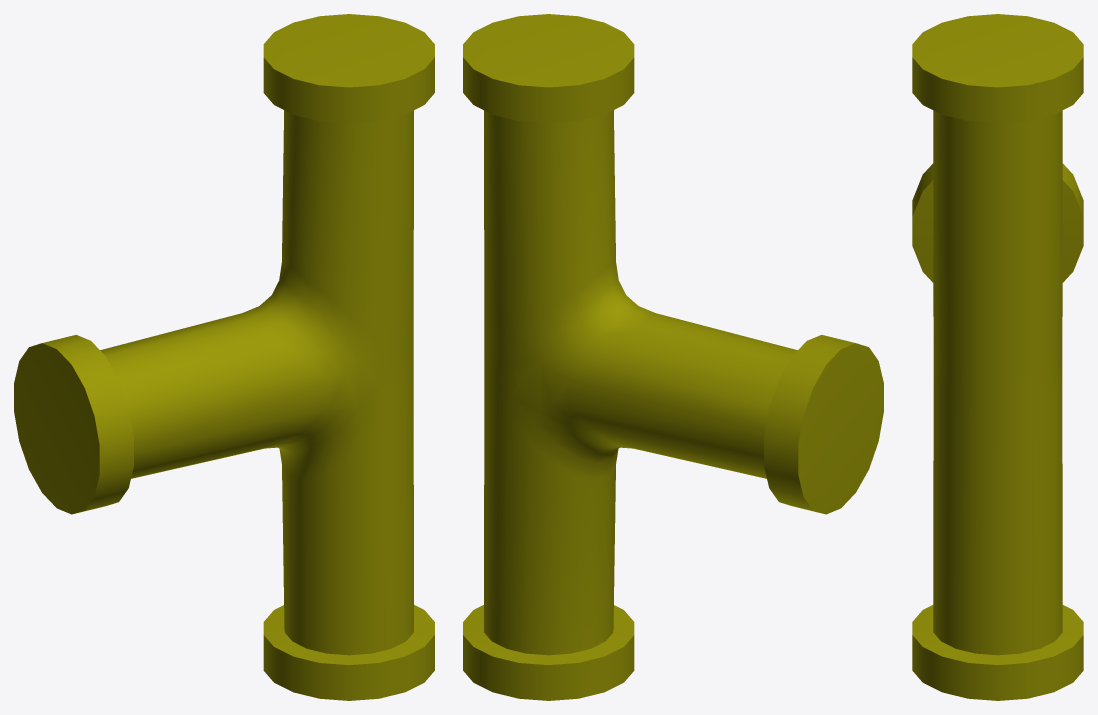
The model's file is Pipe Puzzle_P2 Pipe Modular_03.FBX.
3 views of the same model, side by side, from view 1: azimuth 30°, elevation 25°; view 2: azimuth 150°, elevation 25°; view 3: azimuth 270°, elevation 25° (orthographic).
Visible parts, largest first — view 1: pipe modular 03; view 2: pipe modular 03; view 3: pipe modular 03.
Boxes of the visible parts, bbox=[...] form: pipe modular 03: bbox=[14, 14, 434, 700]; pipe modular 03: bbox=[463, 14, 883, 700]; pipe modular 03: bbox=[912, 14, 1083, 700].
Size of the model in its own units: 14.92 by 23.8 by 6.01.
